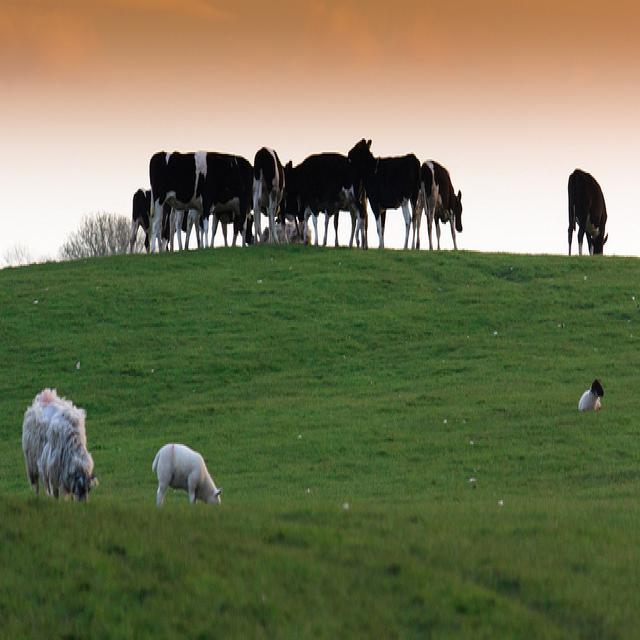cow: (149, 149, 244, 250), (346, 137, 418, 249), (282, 151, 364, 247), (415, 159, 462, 248), (211, 154, 253, 245), (566, 166, 607, 254), (251, 143, 286, 243), (128, 185, 161, 252), (161, 201, 182, 252)
